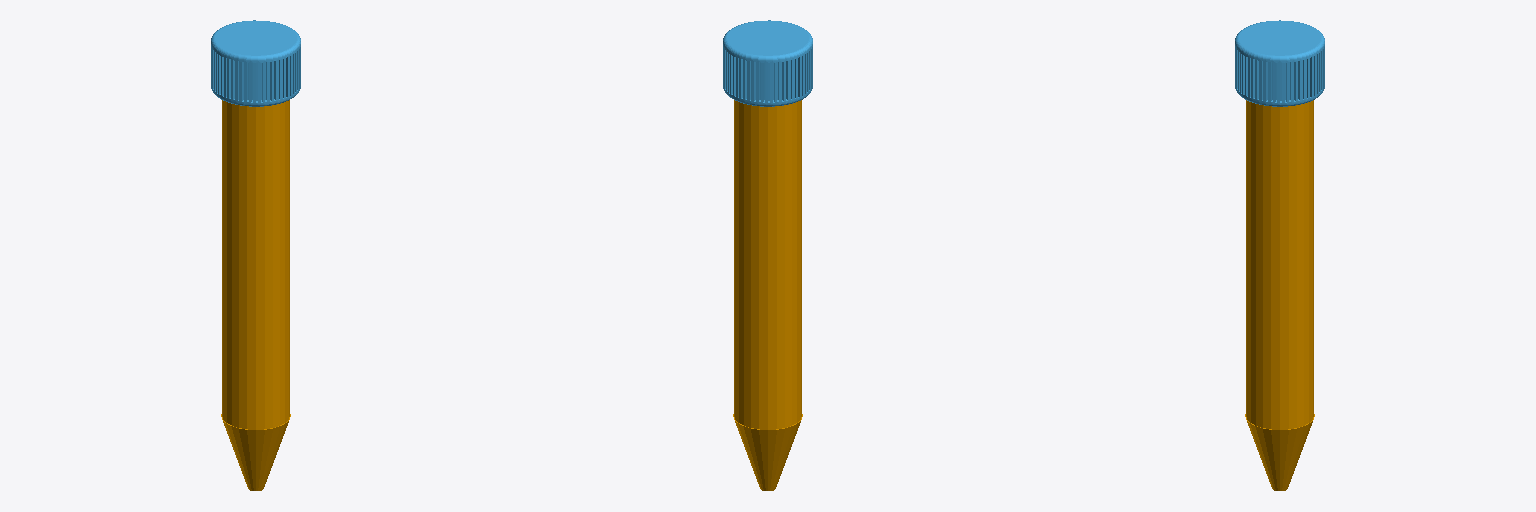
URDF robot description (polypropylene-centrifuge-tube-2):
<?xml version="1.0"?>
<robot name="polypropylene-centrifuge-tube-2">

  <link name="centrifuge-pp-2-base">
    <visual>
      <geometry>
        <mesh filename="../../meshes/polypropene-centrifugal-base-2.obj" scale="0.1 0.1 0.1"/>
      </geometry>
    </visual>
    <collision>
      <geometry>
        <mesh filename="../../meshes/polypropene-centrifugal-base-2.obj" scale="0.1 0.1 0.1"/>
      </geometry>
    </collision>
    <inertial>
      <mass value="0.009"/>
      <inertia ixx="0.1" iyy="0.1" izz="0.1" ixy="0" ixz="0" iyz="0"/>
    </inertial>
    <contact>
      <lateral_friction value="0.35"/>
      <rolling_friction value="0.002"/>
      <spinning_friction value="0.002"/>
      <restitution value="0.05"/>
    </contact>
  </link>

  <link name="centrifuge-pp-2-cap">
    <visual>
      <geometry>
        <mesh filename="../../meshes/blue-cap.obj" scale="0.1 0.1 0.1"/>
      </geometry>
    </visual>
    <collision>
      <geometry>
        <mesh filename="../../meshes/blue-cap.obj" scale="0.1 0.1 0.1"/>
      </geometry>
    </collision>
    <inertial>
      <mass value="0.003"/>
      <inertia ixx="0.01" iyy="0.01" izz="0.01" ixy="0" ixz="0" iyz="0"/>
    </inertial>
    <contact>
      <lateral_friction value="0.30"/>
      <rolling_friction value="0.002"/>
      <spinning_friction value="0.002"/>
      <restitution value="0.05"/>
    </contact>
  </link>
  <joint name="base_to_cap" type="revolute">
    <parent link="centrifuge-pp-2-base"/>
    <child link="centrifuge-pp-2-cap"/>
    <origin xyz="0 0 0.5" rpy="0 0 0"/>
    <axis xyz="0 0 1"/>
    <limit lower="-31.4" upper="31.4" effort="10" velocity="5"/>
    <dynamics damping="0.1" friction="0.05"/>
  </joint>

</robot>

--- What the picture shows (computed from the rendered views, not written in the file) ---
3 views of the same robot in one strip: view 1: azimuth 30°, elevation 25°; view 2: azimuth 150°, elevation 25°; view 3: azimuth 270°, elevation 25° (orthographic).
Robot: polypropylene-centrifuge-tube-2 — 2 links, 1 joints (1 revolute); root link centrifuge-pp-2-base; default pose: every joint at zero.
Links seen in each view (by area): view 1: centrifuge-pp-2-base, centrifuge-pp-2-cap; view 2: centrifuge-pp-2-base, centrifuge-pp-2-cap; view 3: centrifuge-pp-2-base, centrifuge-pp-2-cap.
Boxes of the visible links, x1,y1,x2,y2 form: centrifuge-pp-2-base: (221,100,290,490); centrifuge-pp-2-cap: (211,20,300,106); centrifuge-pp-2-base: (733,100,802,490); centrifuge-pp-2-cap: (723,20,812,106); centrifuge-pp-2-base: (1245,100,1314,490); centrifuge-pp-2-cap: (1235,20,1324,106).
Size in the robot's own frame: 0.226 by 0.226 by 1.24 metres.
2 mesh visuals loaded from 2 distinct referenced files (2 OBJ).
